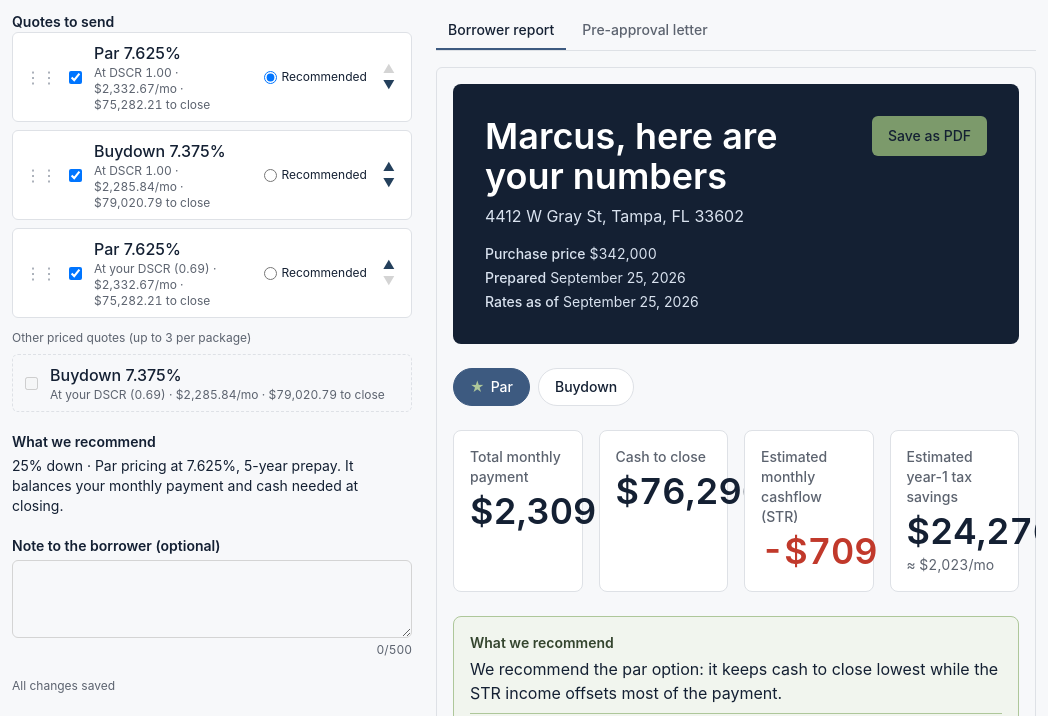
Test case: SendTab › post-merge review follow-up: a later save's success clears an earlier save's error
Click the checkbox named "Include Par 7.625% (At your DSCR (0.69))".
click(76, 273)  # box x1=69 y1=266 x2=82 y2=280
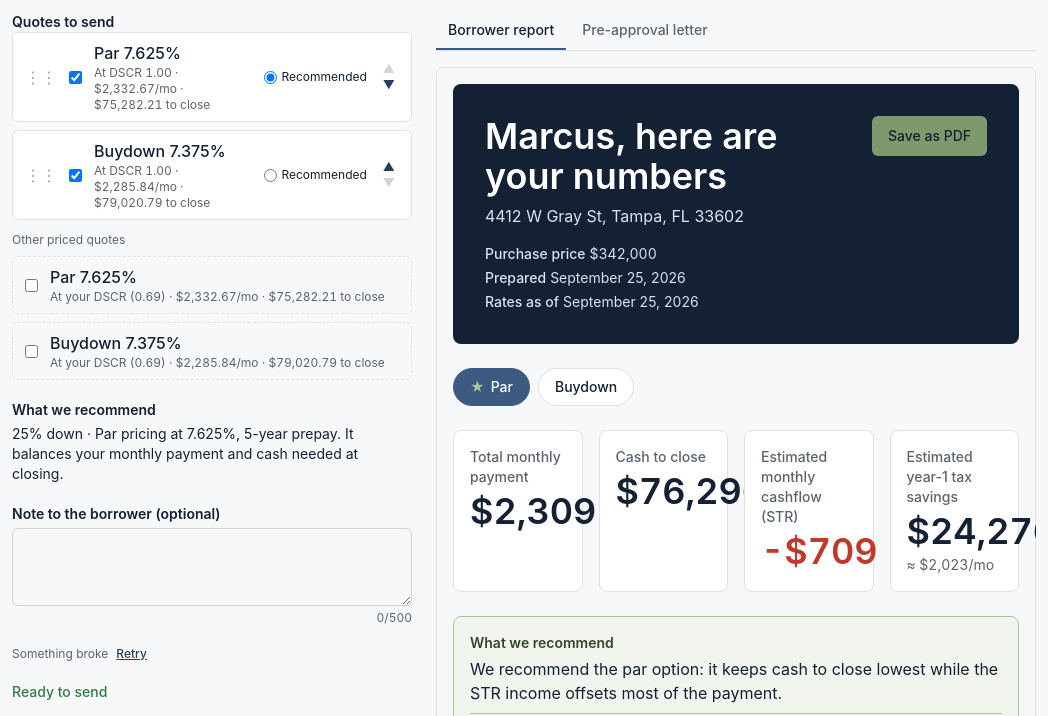
expect the text with test id "save-status" reads "Something broke": met, box x1=12 y1=646 x2=108 y2=661
expect the number of list items with test id "selected-quote" is 2: met, box x1=12 y1=32 x2=412 y2=122; x1=12 y1=130 x2=412 y2=220
Click the 2nd radio button labelled "Recommended".
click(271, 175)  # box x1=264 y1=168 x2=278 y2=182
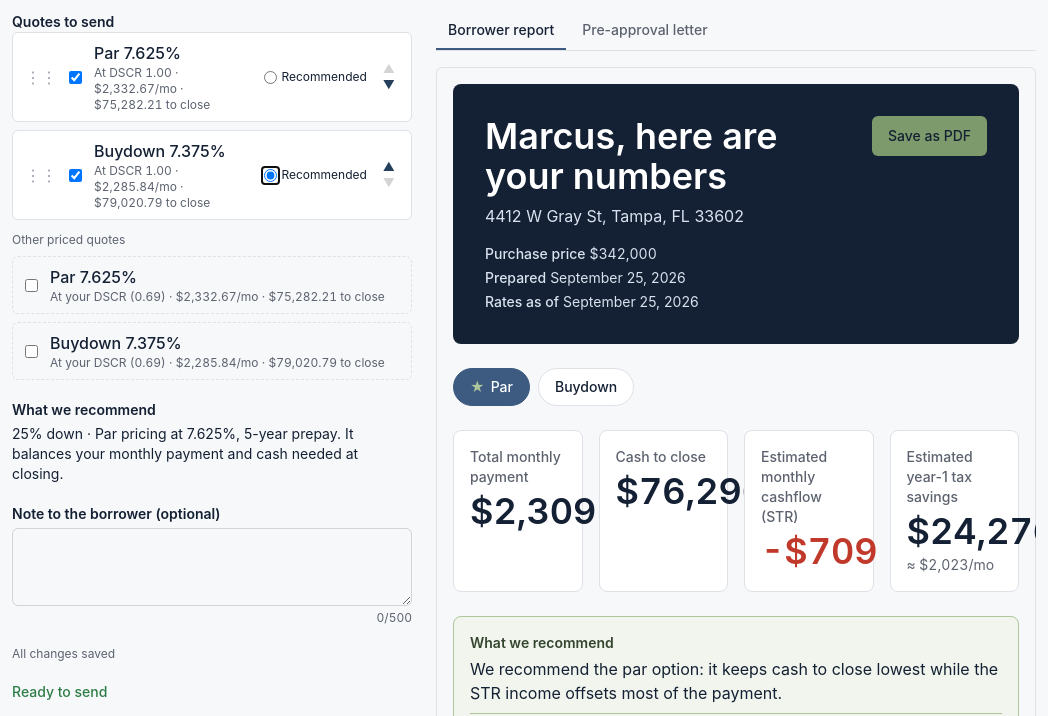
expect the text with test id "save-status" reads "All changes saved": met, box x1=12 y1=646 x2=115 y2=661
